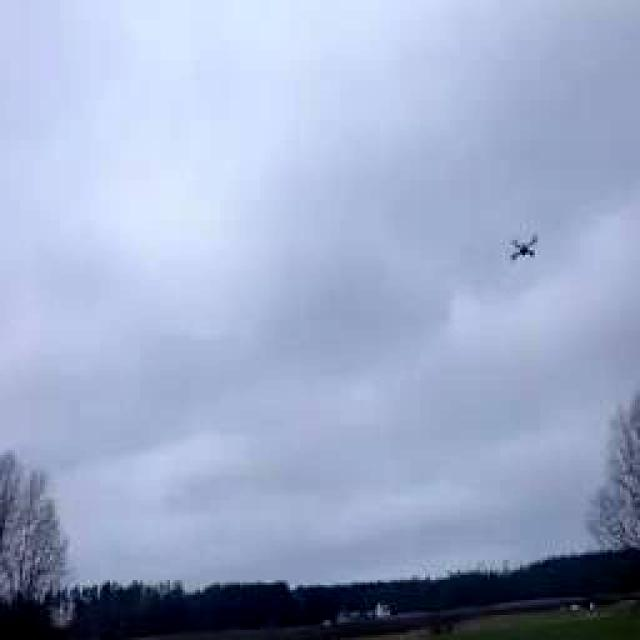bird: (498, 216, 552, 284)
